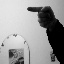g: (26, 4, 58, 32)
